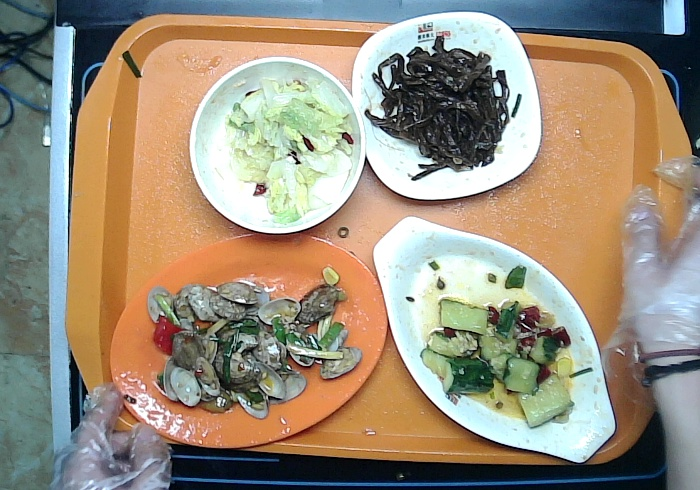NLDX-Bai_Se_Xiao_Fang_Die: (352, 12, 544, 201)
NLDX-Fan_Wan: (191, 57, 366, 234)
NLDX-Ju_Se_Pan: (110, 234, 389, 447)
NLDX-Yu_Pan: (373, 216, 617, 462)
